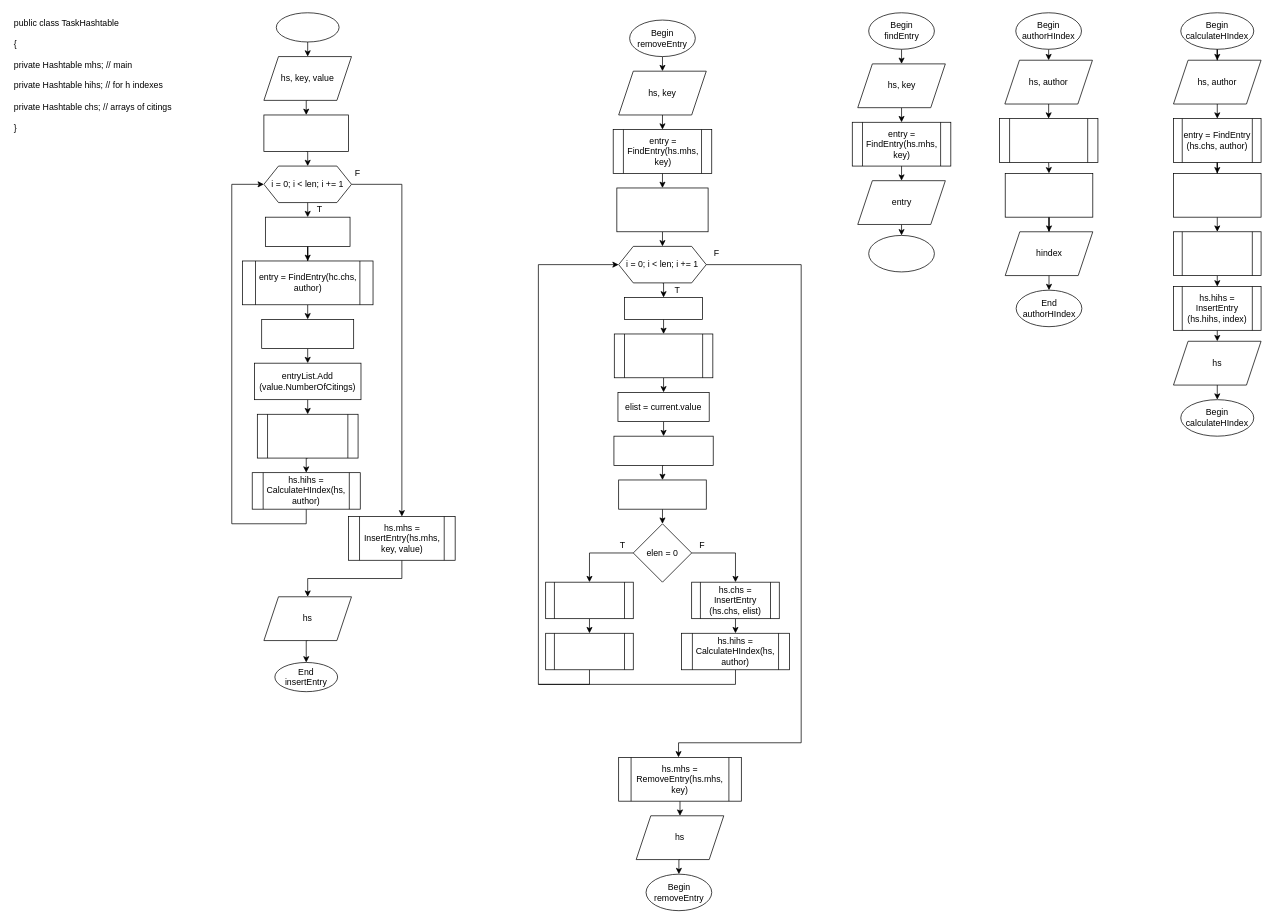
The diagram is 1274 pixels wide and 923 high, and some of its shapes have lost their labels. The shapes that lost their labels are listed below. From the top down, each one's centre as x and y in pixels, then its label:
pixel 307 27: Begin insertEntry
pixel 306 132: authors = value.Authors len = authors.Length
pixel 1048 140: entry = FindEntry(hs.hihs, author)
pixel 662 209: eval = entry.value authors = eval.Authors len = authors.Length
pixel 1048 195: hindex = entry.value
pixel 1217 195: authors = entry.value
pixel 307 231: author = authors[i] entryList = new List()
pixel 901 253: End findEntry
pixel 1217 253: index = CalculateHIndex (authors)
pixel 663 308: author = authors[i]
pixel 307 334: entryList = entry.value
pixel 663 355: current = FindEntry(hs.chs, author)
pixel 307 436: hs.chs = InsertEntry(hs.shc, author, entryList)
pixel 663 450: elist.Remove (eval.NumberOfCitings)
pixel 662 494: elen = elist.Length
pixel 589 600: hs.chs = RemoveEntry (hs.chs, author)
pixel 589 651: hs.hish = RemoveEntry (hs.hish , author)
